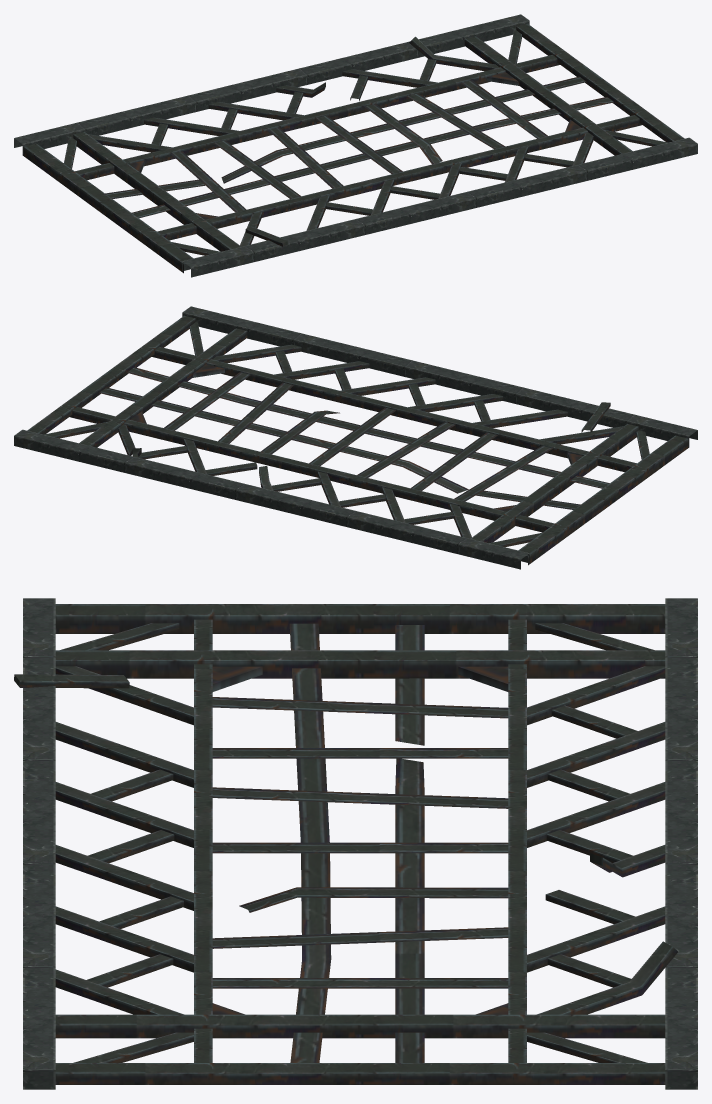
The model's file is building_section02_guanka10C06.FBX.
3 views of the same model, one above another, from view 1: azimuth 30°, elevation 25°; view 2: azimuth 150°, elevation 25°; view 3: azimuth 270°, elevation 25° (orthographic). The views are drawn at different scales.
Visible parts, largest first — view 1: building_section02_guanka10C06; view 2: building_section02_guanka10C06; view 3: building_section02_guanka10C06.
Part boxes in pixels (left/top/right/bottom): building_section02_guanka10C06: left=14, top=14, right=697, bottom=277; building_section02_guanka10C06: left=14, top=306, right=697, bottom=569; building_section02_guanka10C06: left=14, top=598, right=697, bottom=1089.
Size of the model in its own units: 11.01 by 0.6172 by 6.74.
